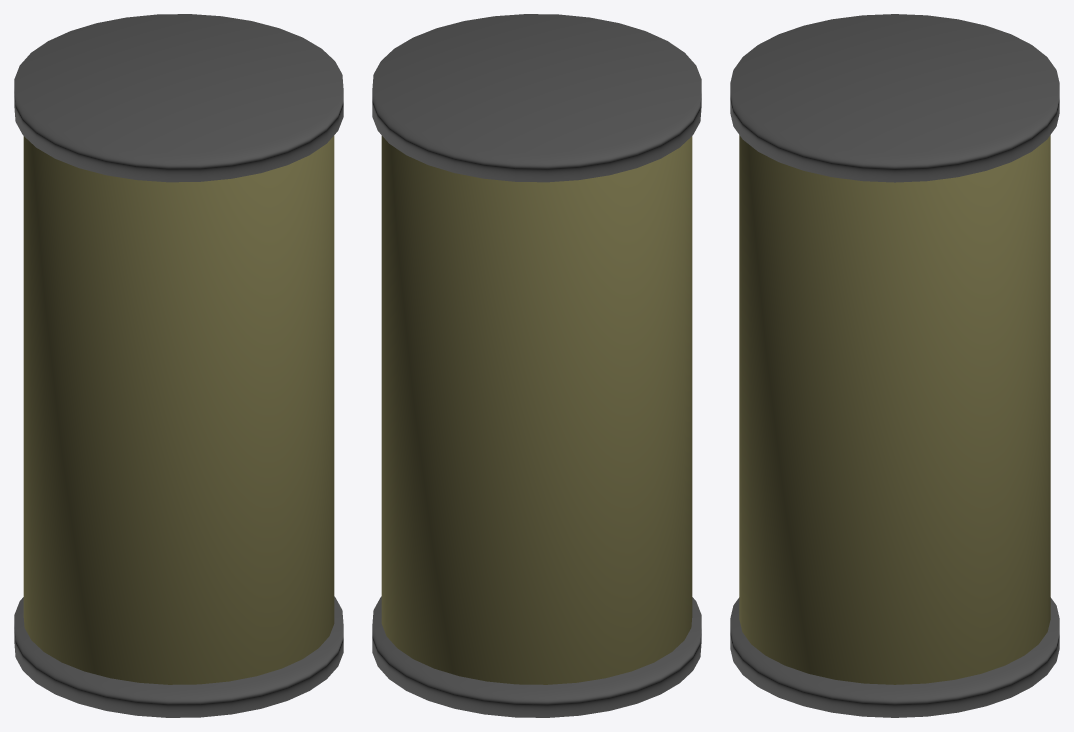
The model's file is Barel chems.fbx.
3 renders of one model, left to right at view 1: azimuth 30°, elevation 25°; view 2: azimuth 150°, elevation 25°; view 3: azimuth 270°, elevation 25°, orthographic.
Visible parts, largest first — view 1: PM3D_Plane3D219_011; view 2: PM3D_Plane3D219_011; view 3: PM3D_Plane3D219_011.
Boxes of the visible parts, x1,y1,x2,y2 form: PM3D_Plane3D219_011: (14,14,343,717); PM3D_Plane3D219_011: (372,14,701,717); PM3D_Plane3D219_011: (730,14,1059,717).
Size of the model in its own units: 70.68 by 134 by 70.68.
